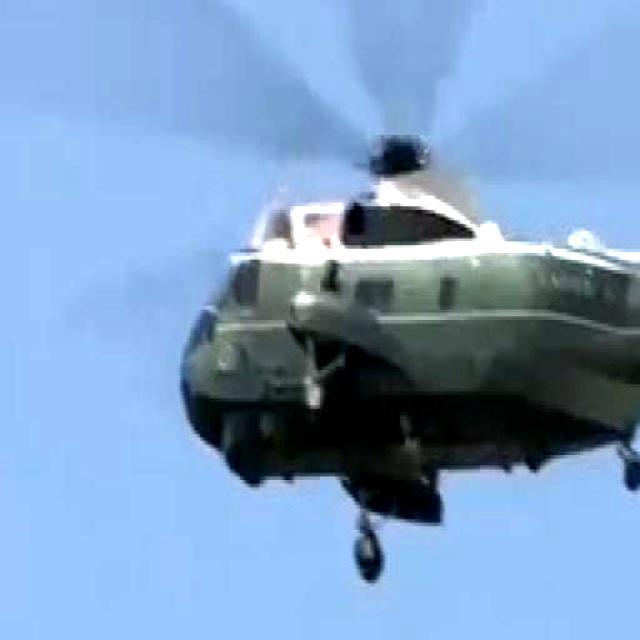drone: (168, 0, 640, 599)
